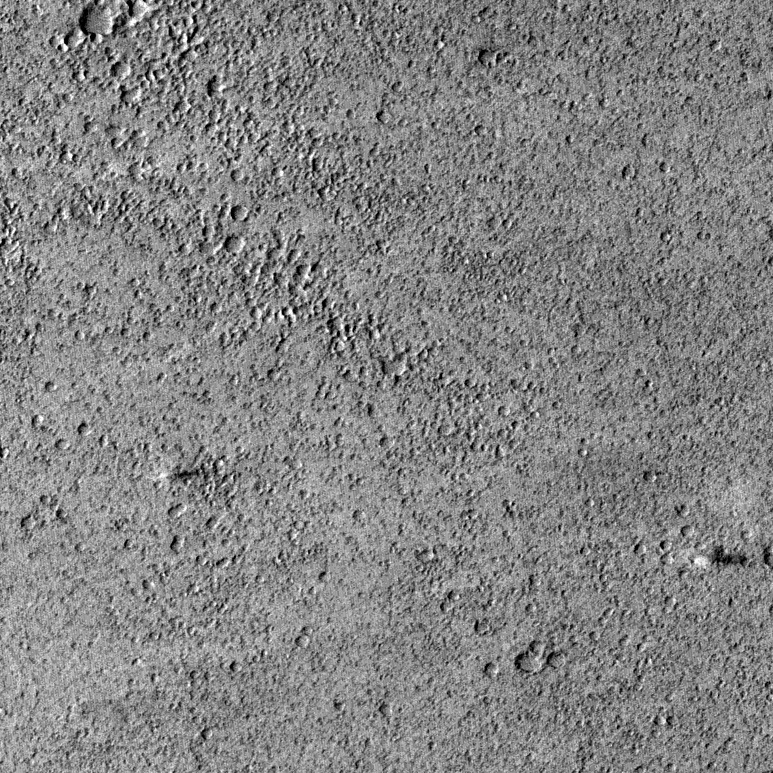dust_devil: (692, 544, 749, 570), (150, 467, 203, 487)
